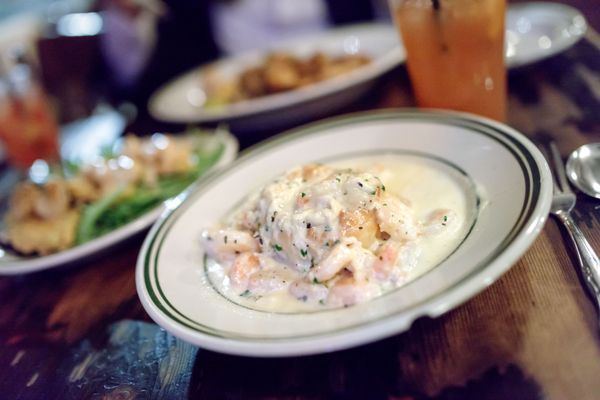salad: (541, 135, 600, 344), (565, 141, 600, 262), (565, 140, 600, 201)
sushi: (136, 107, 535, 354), (148, 19, 408, 133)
